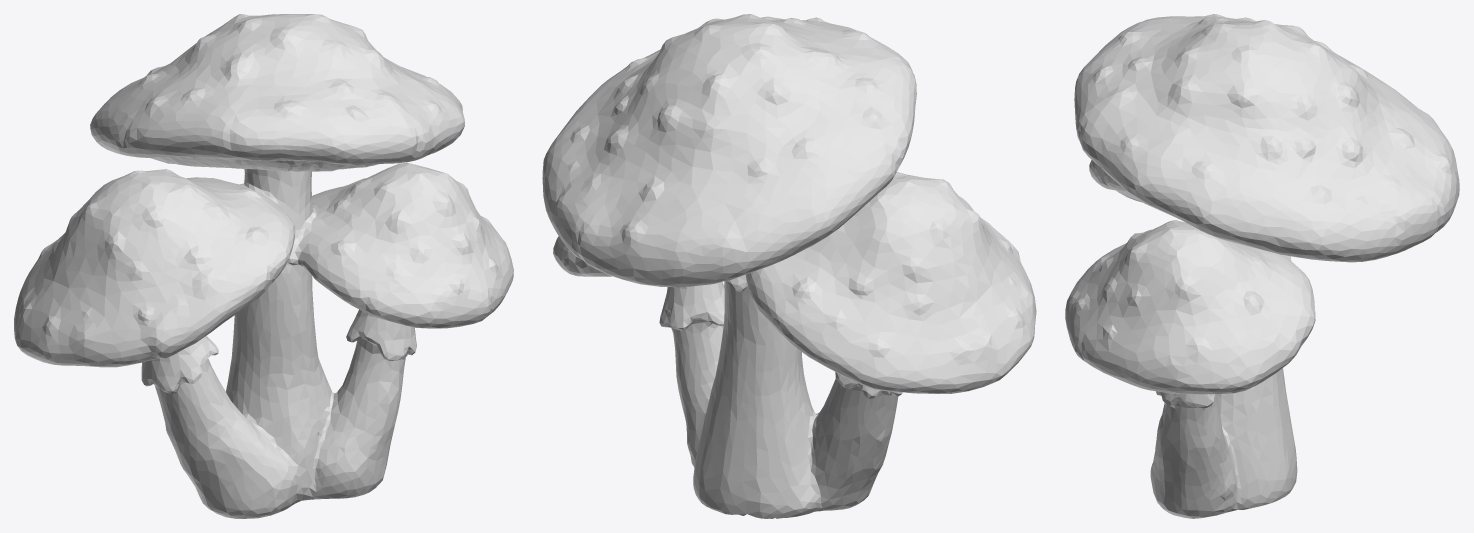
The model's file is mushroom01.glb.
The picture shows the model from 3 angles, left to right: view 1: azimuth 30°, elevation 25°; view 2: azimuth 150°, elevation 25°; view 3: azimuth 270°, elevation 25°; orthographic projection. The views are drawn at different scales.
Visible parts, largest first — view 1: Low; view 2: Low; view 3: Low.
Boxes of the visible parts, x1,y1,x2,y2 form: Low: [14, 14, 513, 518]; Low: [542, 14, 1036, 518]; Low: [1065, 14, 1459, 518].
Bounding box in the file's own units: 1.98 × 1.91 × 1.48.
Materials: 1 (1 with a texture image).
